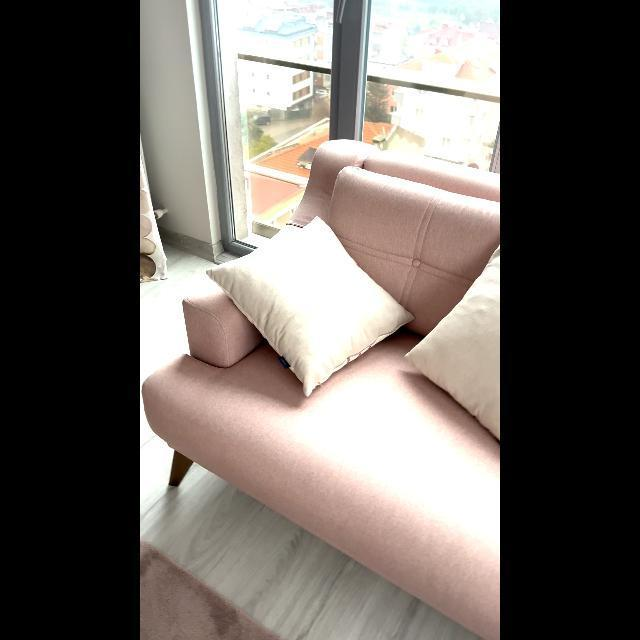throw pillow: (202, 212, 428, 402), (396, 234, 499, 458)
